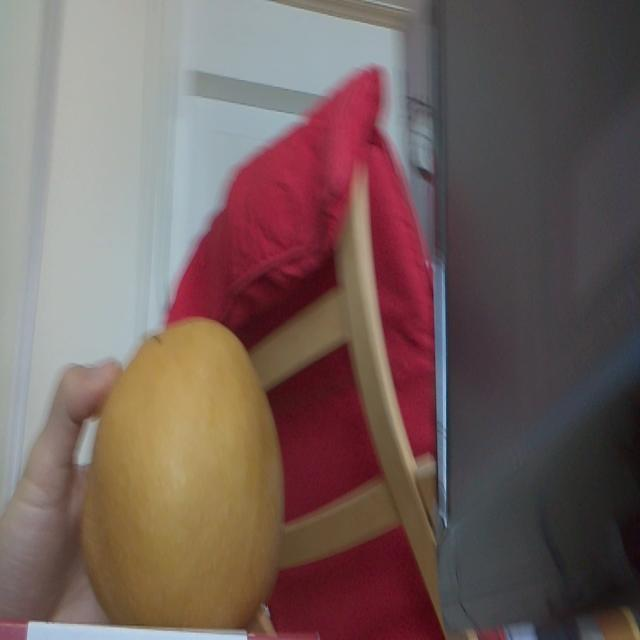pear: (78, 321, 285, 625)
